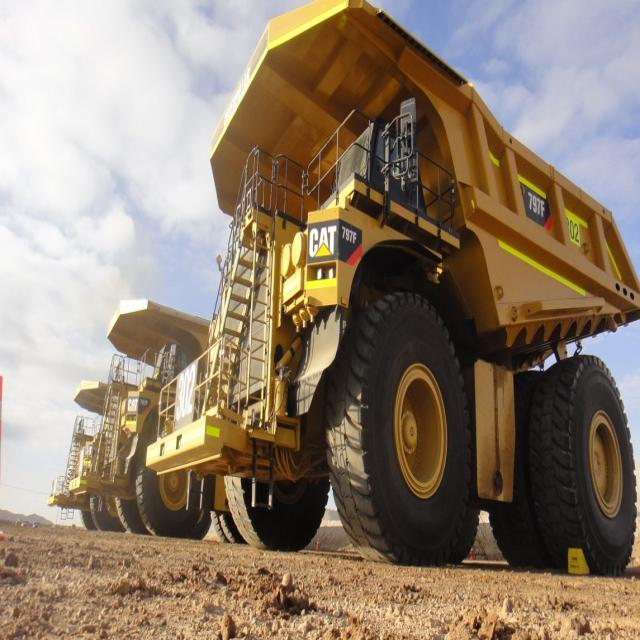dump_truck: (196, 4, 640, 582), (99, 290, 228, 529), (58, 354, 114, 504)
